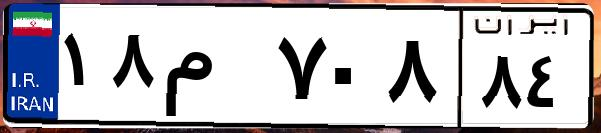0: (330, 28, 385, 110)
1: (57, 26, 110, 100)
4: (525, 38, 570, 115)
7: (270, 28, 330, 110)
8: (385, 28, 445, 110), (475, 38, 525, 113), (110, 28, 158, 98)
م: (158, 20, 270, 120)
